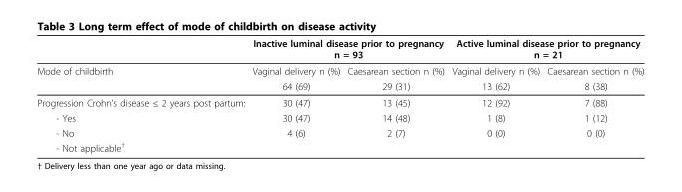table: (36, 37, 643, 153)
table column: (36, 37, 247, 153), (343, 37, 447, 153), (542, 37, 643, 153), (247, 37, 343, 153), (447, 37, 542, 153)
table column header: (36, 37, 643, 78)
table row: (36, 37, 643, 62), (36, 62, 643, 78), (36, 78, 643, 94), (36, 94, 643, 110), (36, 110, 643, 125), (36, 125, 643, 139), (36, 139, 643, 153)
table spanning cell: (36, 37, 247, 78), (247, 37, 447, 62), (447, 37, 643, 62)
